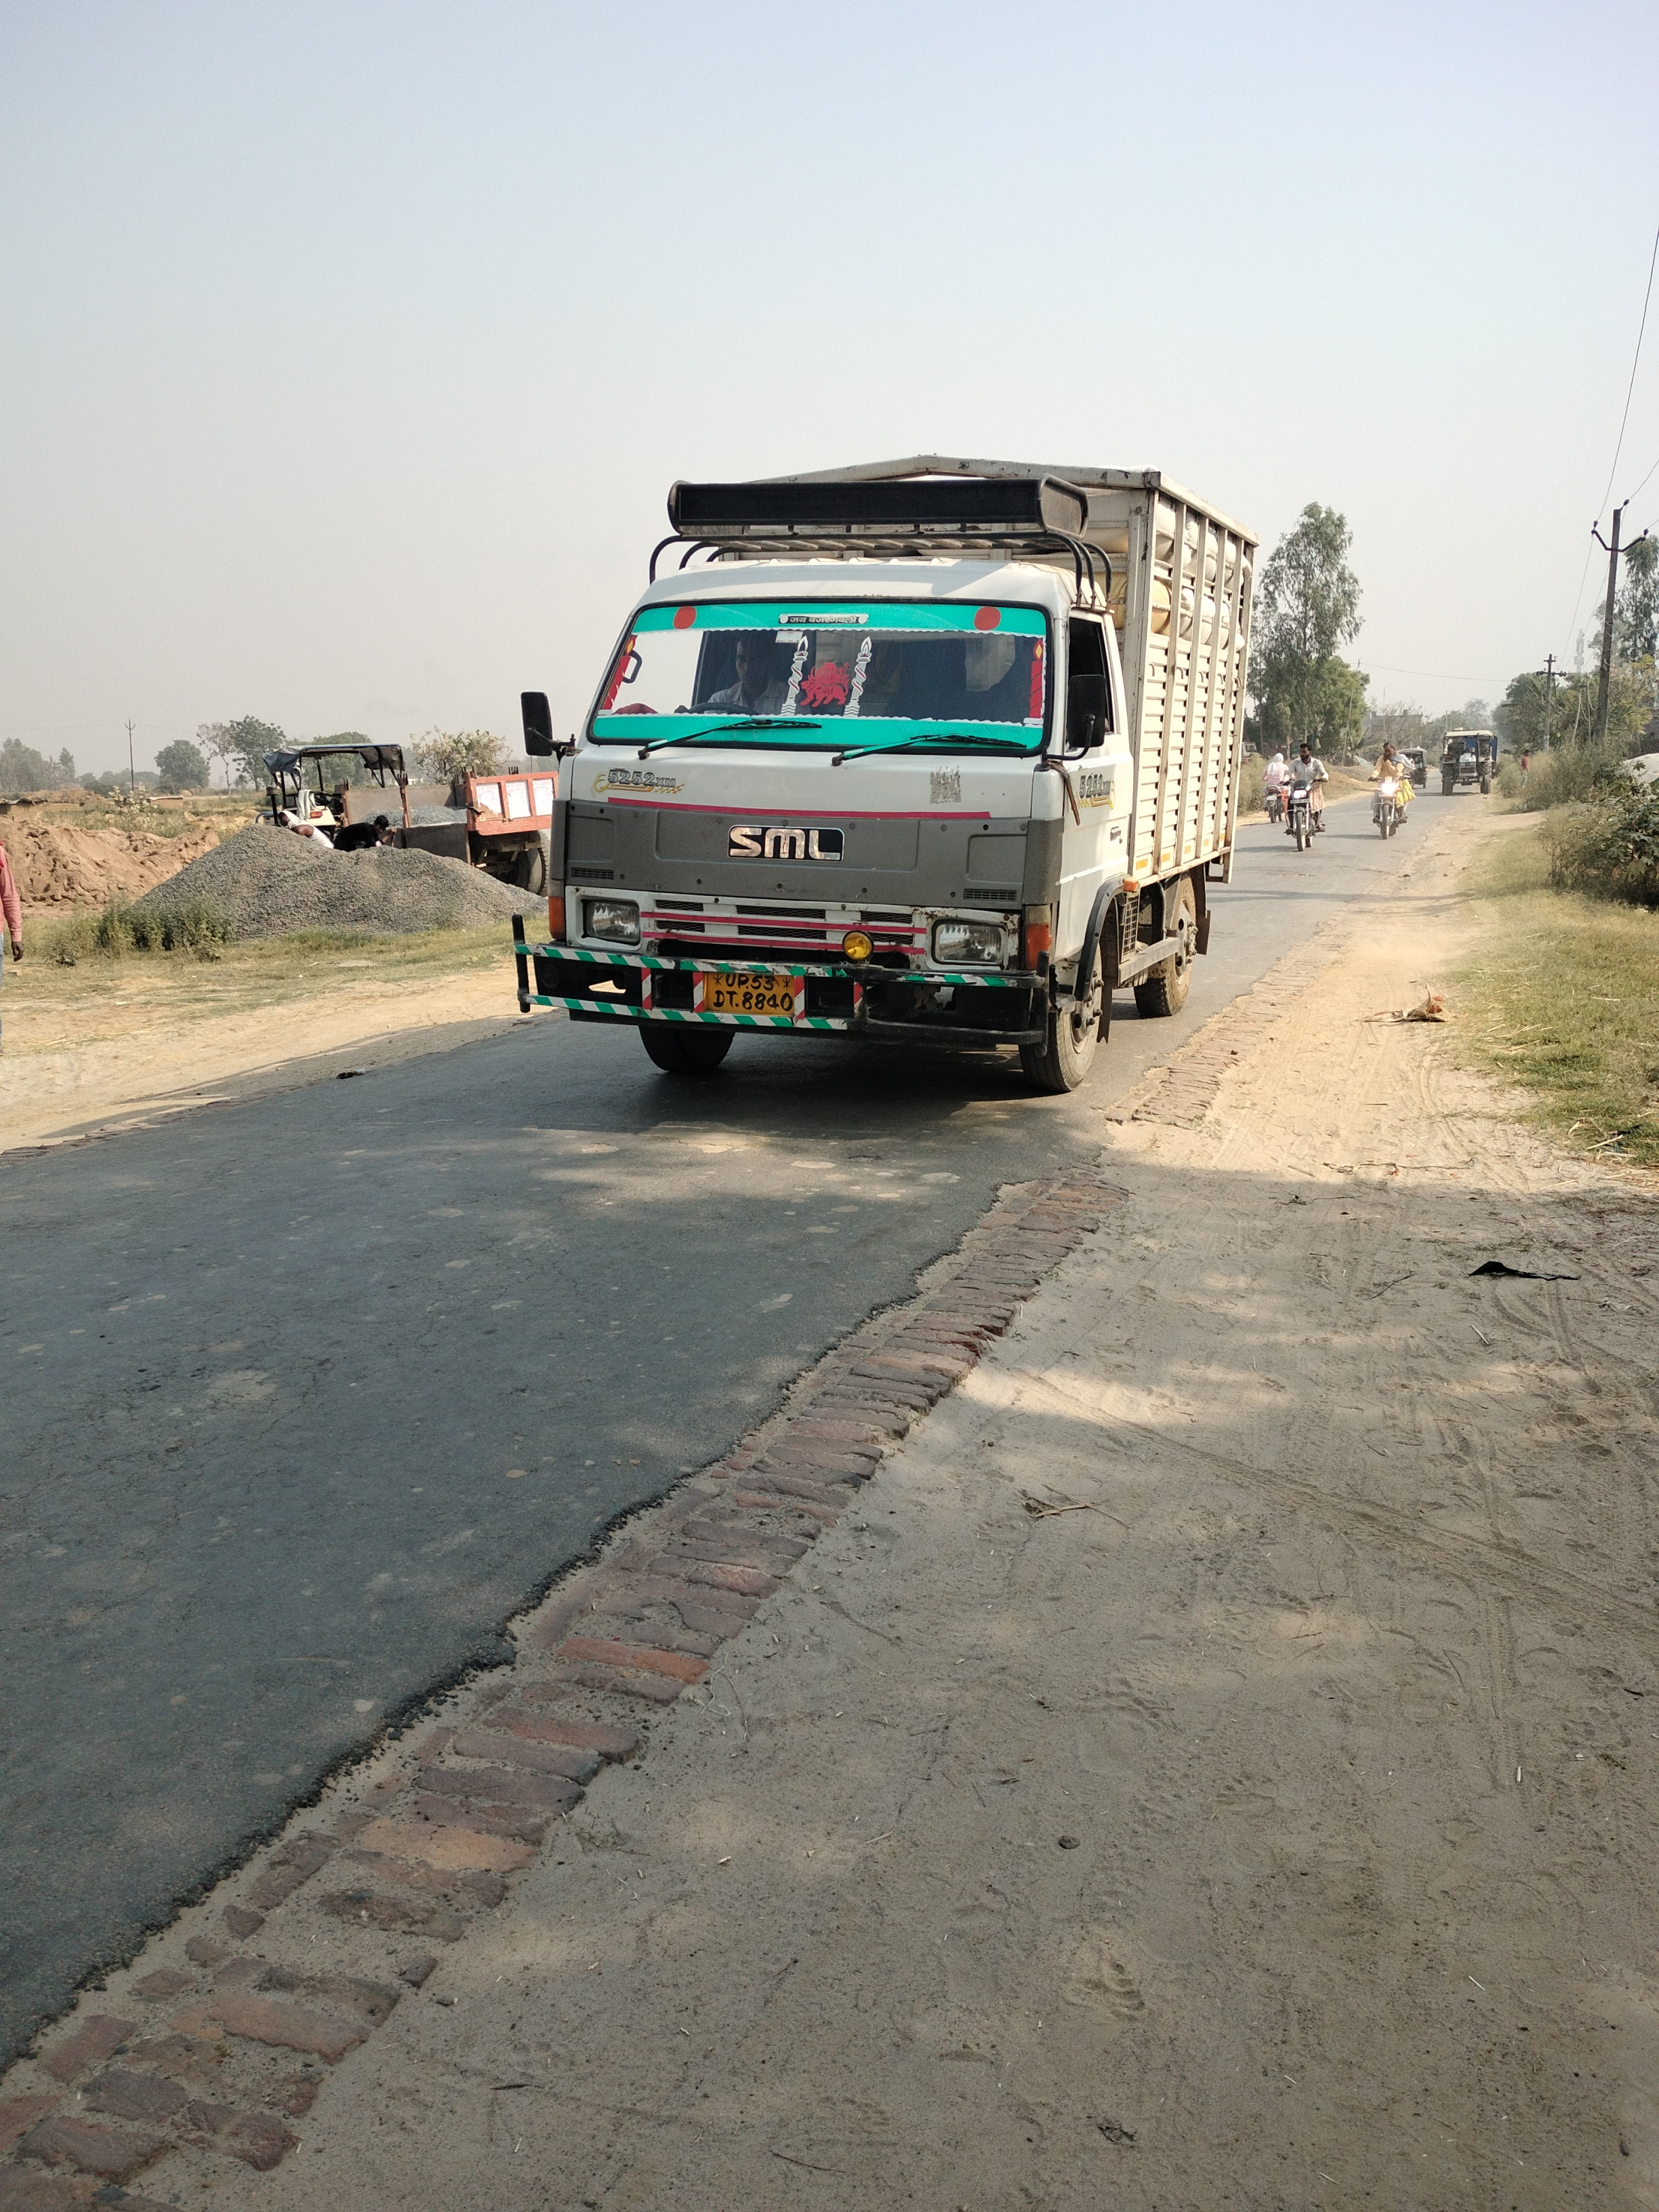tractor: (253, 738, 561, 900), (1438, 726, 1499, 796)
